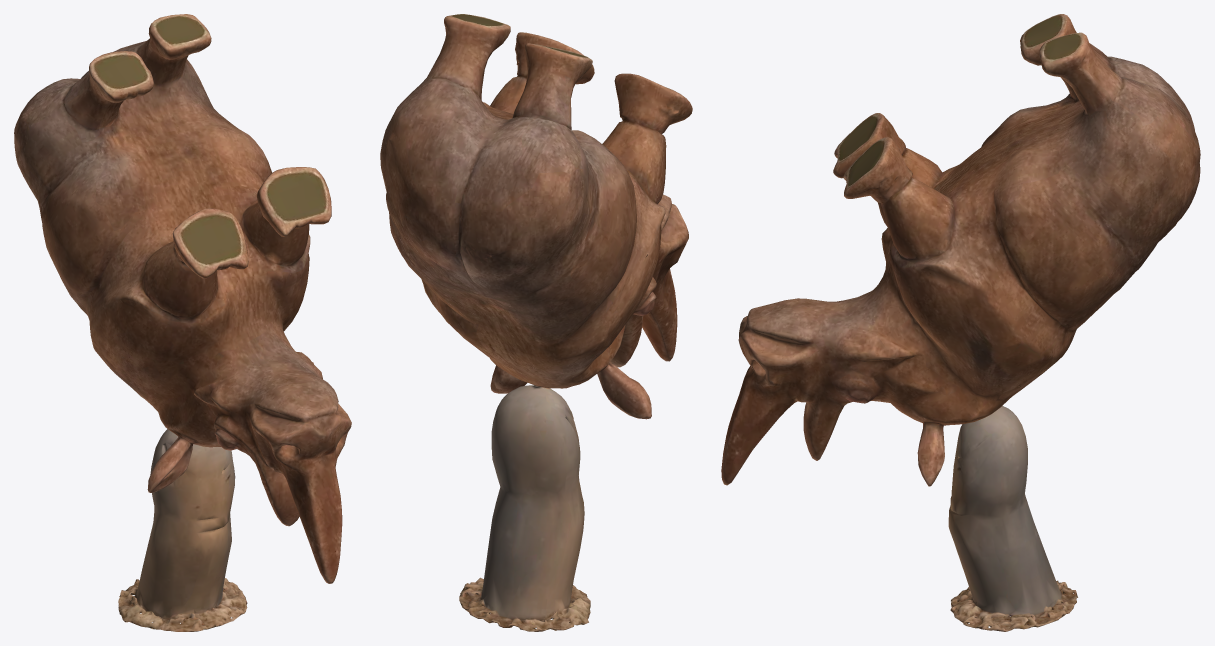
File: rino.glb
The picture shows the model from 3 angles, left to right: view 1: azimuth 30°, elevation 25°; view 2: azimuth 150°, elevation 25°; view 3: azimuth 270°, elevation 25°; orthographic projection. The views are drawn at different scales.
Visible parts, largest first — view 1: world; view 2: world; view 3: world.
Boxes of the visible parts, x1,y1,x2,y2 form: world: (14, 14, 351, 631); world: (380, 14, 692, 631); world: (721, 14, 1200, 631).
Bounding box in the file's own units: 0.3891 × 0.9995 × 0.7498.
Materials: 1 (1 with a texture image).
